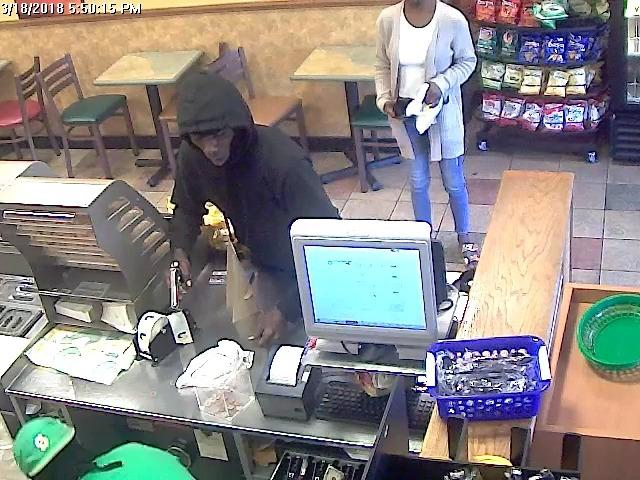weapon: (157, 257, 196, 311)
